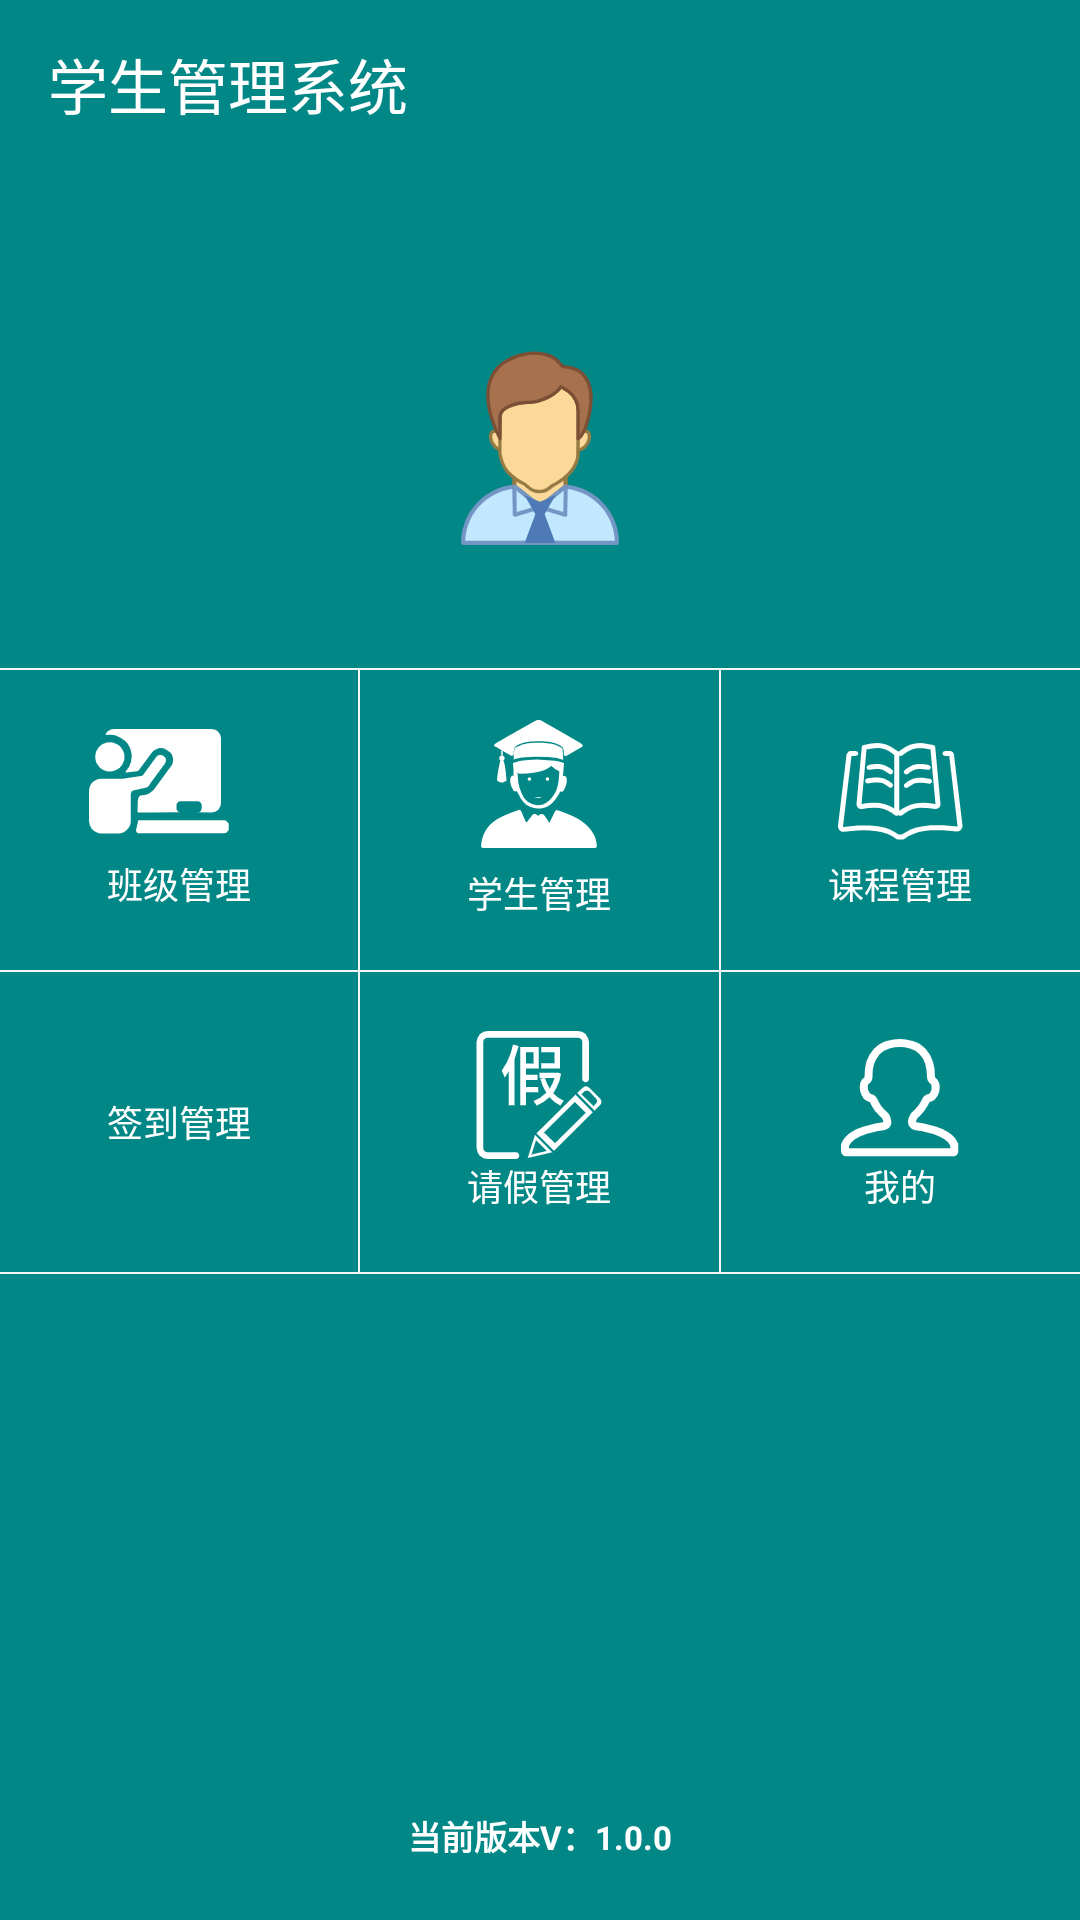

Icon bounding boxes for this 1080×1920 phone screenshot, format (x1, y1, x2, y2):
manager: (461, 351, 619, 545)
